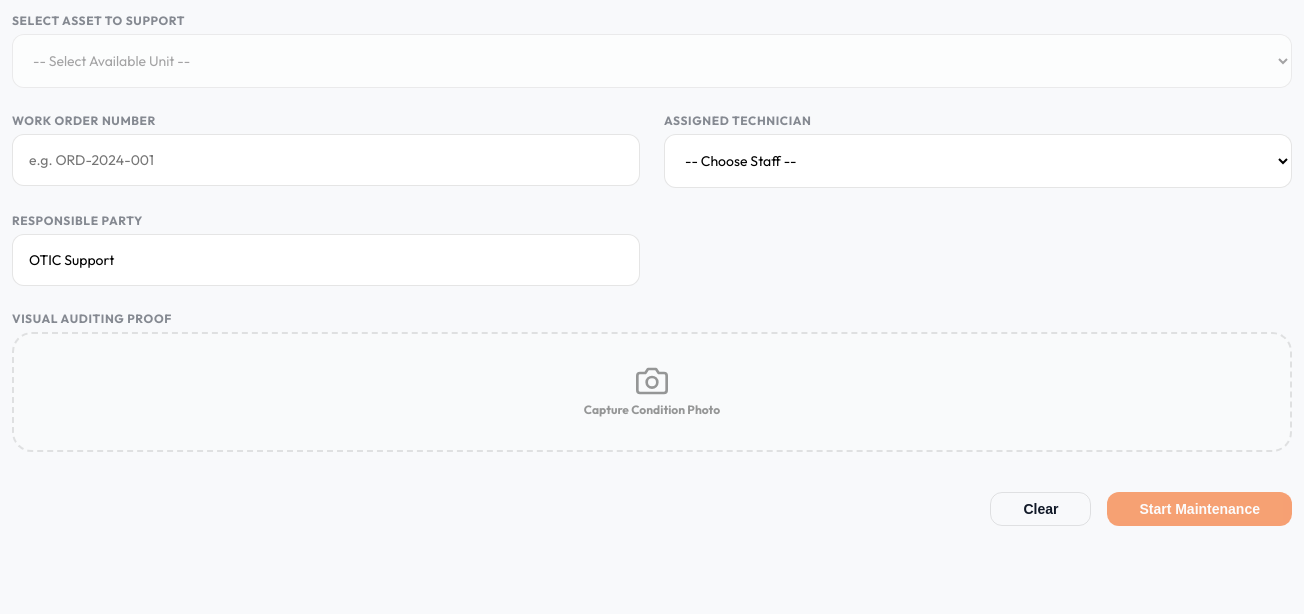
Test: SupportEntryForm enforces mandatory fields
The image size is (1304, 614).
What coordinates should you click on to do the following:
click the button "Start Maintenance"
I would click on:
 (1200, 509)
Its box is [1107,492,1292,526].
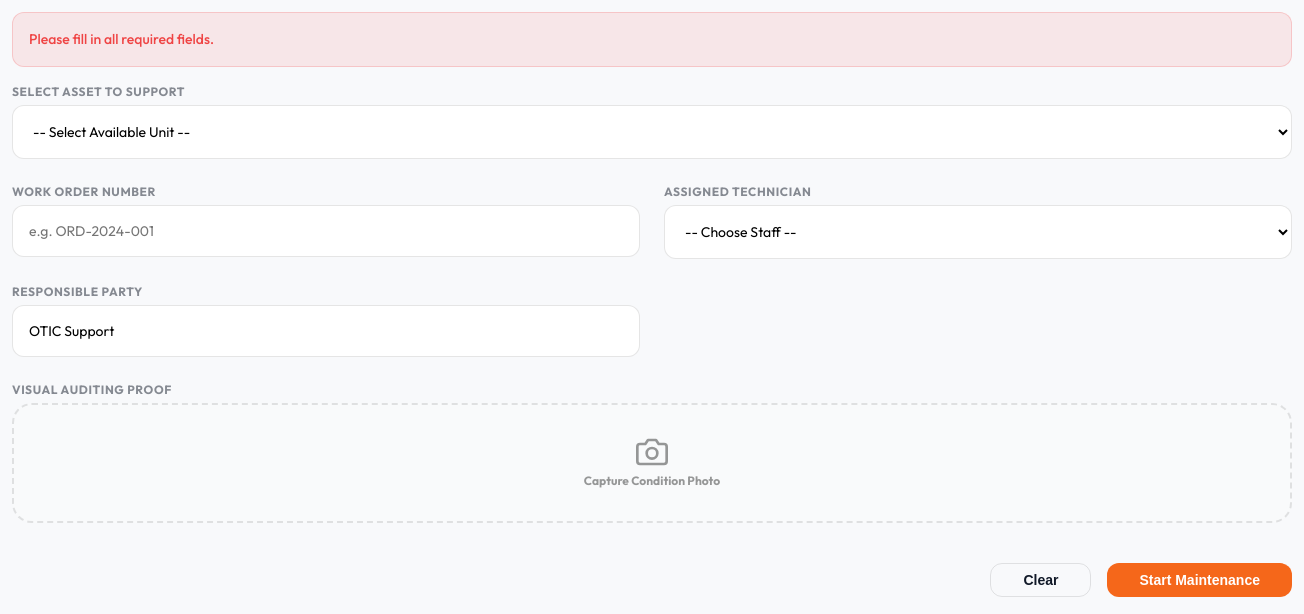
Expected: the text "Please fill in all required fields." is shown, [12,12,1292,67]
